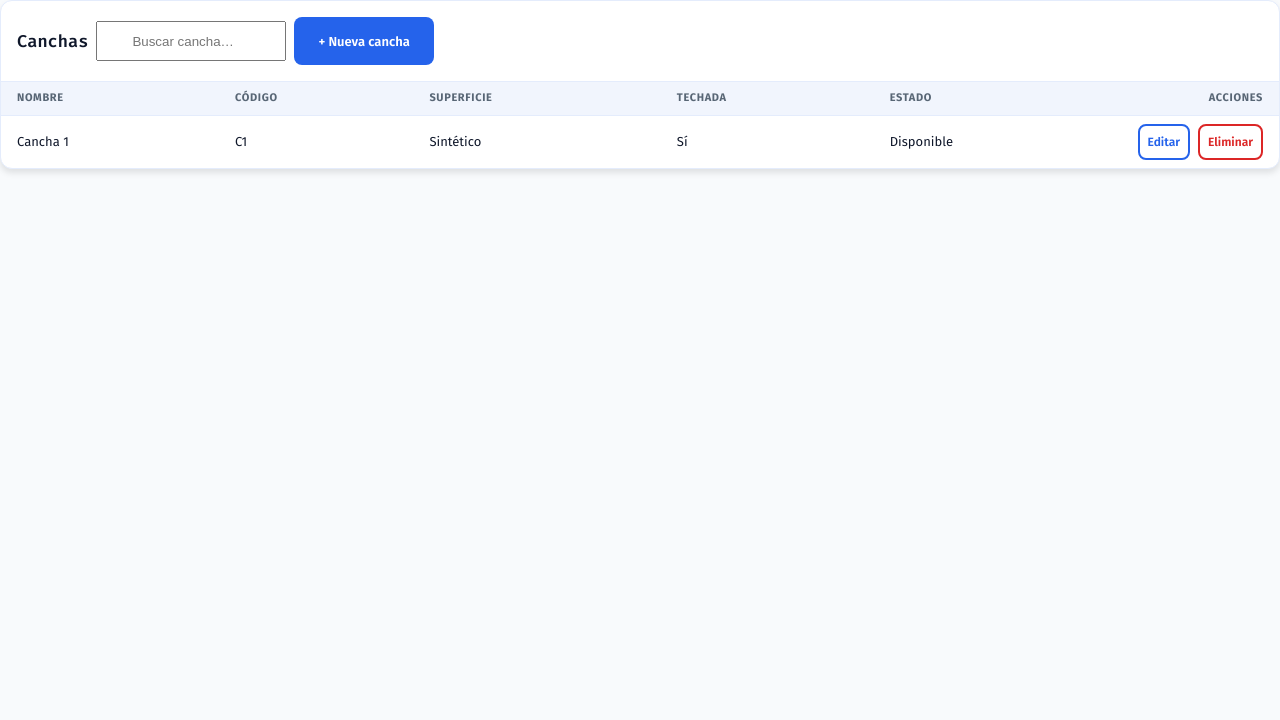
Test: CanchasPageComponent › un guardado fallido muestra el error DENTRO del modal y NO borra la tabla
Click the button "+ Nueva cancha": coordinates (364, 41) [294,17,434,65]
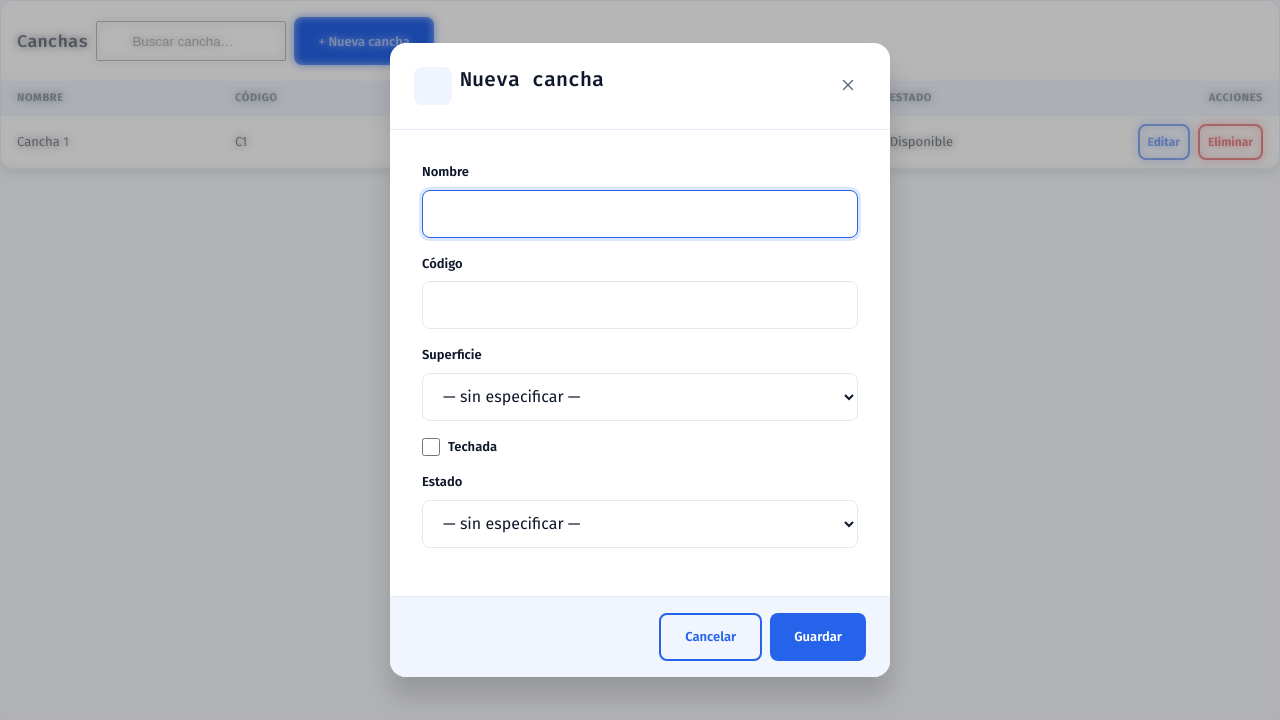
Click the button with test id "save": coordinates (818, 637) [770,613,866,661]
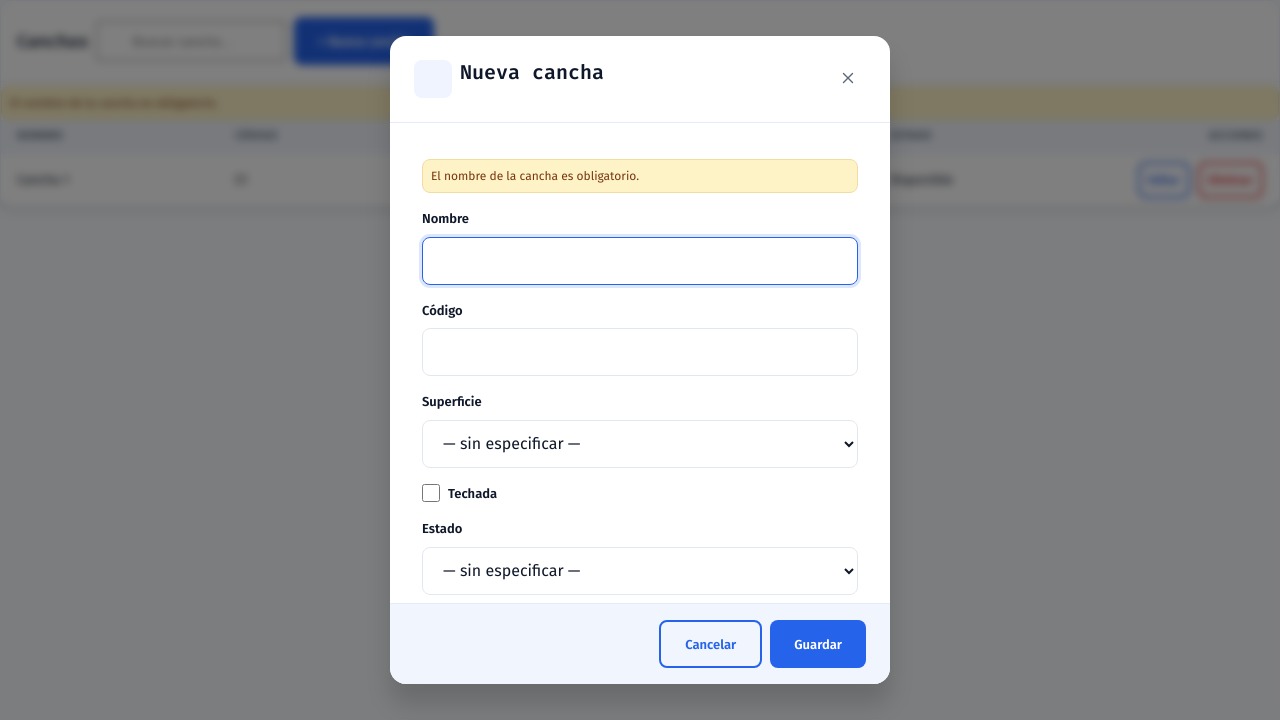
Expected: the text "El nombre de la cancha es obligatorio." is shown, [1,86,1279,120]
